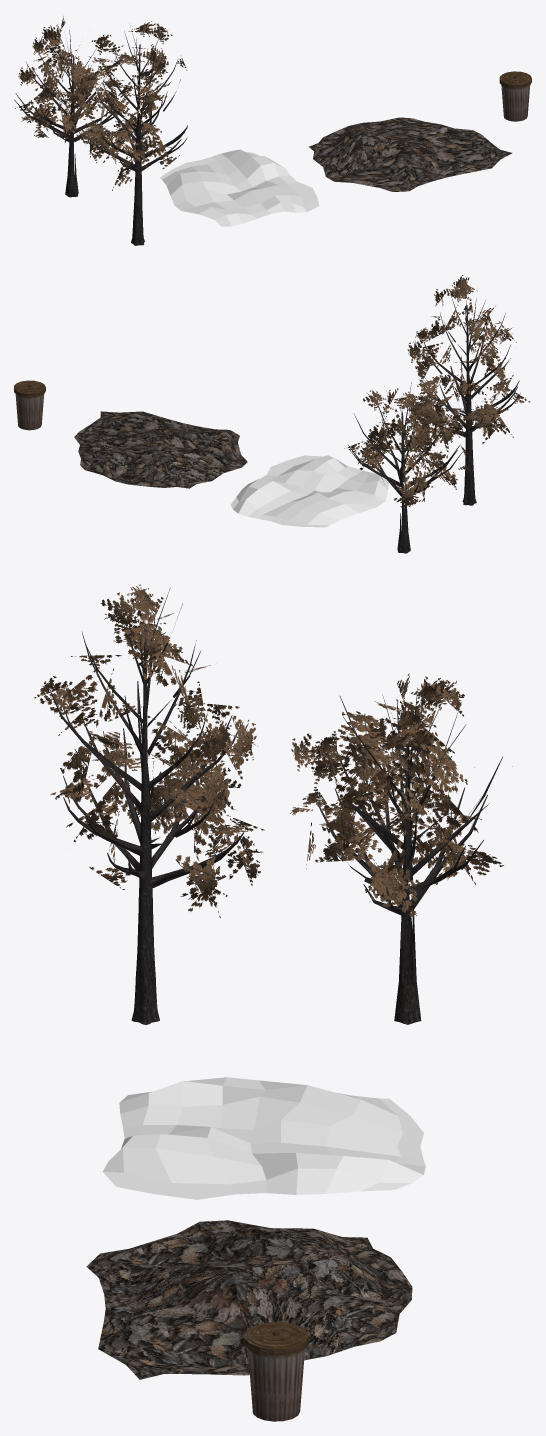
Rendered from tree1.fbx.
3 views of the same model, one above another, from view 1: azimuth 30°, elevation 25°; view 2: azimuth 150°, elevation 25°; view 3: azimuth 270°, elevation 25° (orthographic). The views are drawn at different scales.
Parts seen in each view (by area): view 1: Plane.011, Plane.012, tree4, tree6, Cylinder.016, Cylinder.017; view 2: Plane.011, tree4, Plane.012, tree6, Cylinder.016, Cylinder.017; view 3: Plane.011, Plane.012, tree4, tree6, Cylinder.016, Cylinder.017.
Part boxes in pixels (<box>): Plane.011: <box>309,117,512,191</box>; Plane.012: <box>160,149,319,226</box>; tree4: <box>77,21,187,245</box>; tree6: <box>14,16,128,197</box>; Cylinder.016: <box>501,85,530,121</box>; Cylinder.017: <box>499,71,531,88</box>; Plane.011: <box>74,411,247,488</box>; tree4: <box>407,275,529,505</box>; Plane.012: <box>230,455,393,527</box>; tree6: <box>344,382,471,553</box>; Cylinder.016: <box>15,394,44,430</box>; Cylinder.017: <box>14,380,45,397</box>; Plane.011: <box>86,1220,412,1379</box>; Plane.012: <box>102,1077,425,1199</box>; tree4: <box>34,584,264,1024</box>; tree6: <box>289,673,512,1024</box>; Cylinder.016: <box>248,1349,304,1421</box>; Cylinder.017: <box>244,1322,308,1356</box>.
Size of the model in its own units: 2290 by 1016 by 997.
